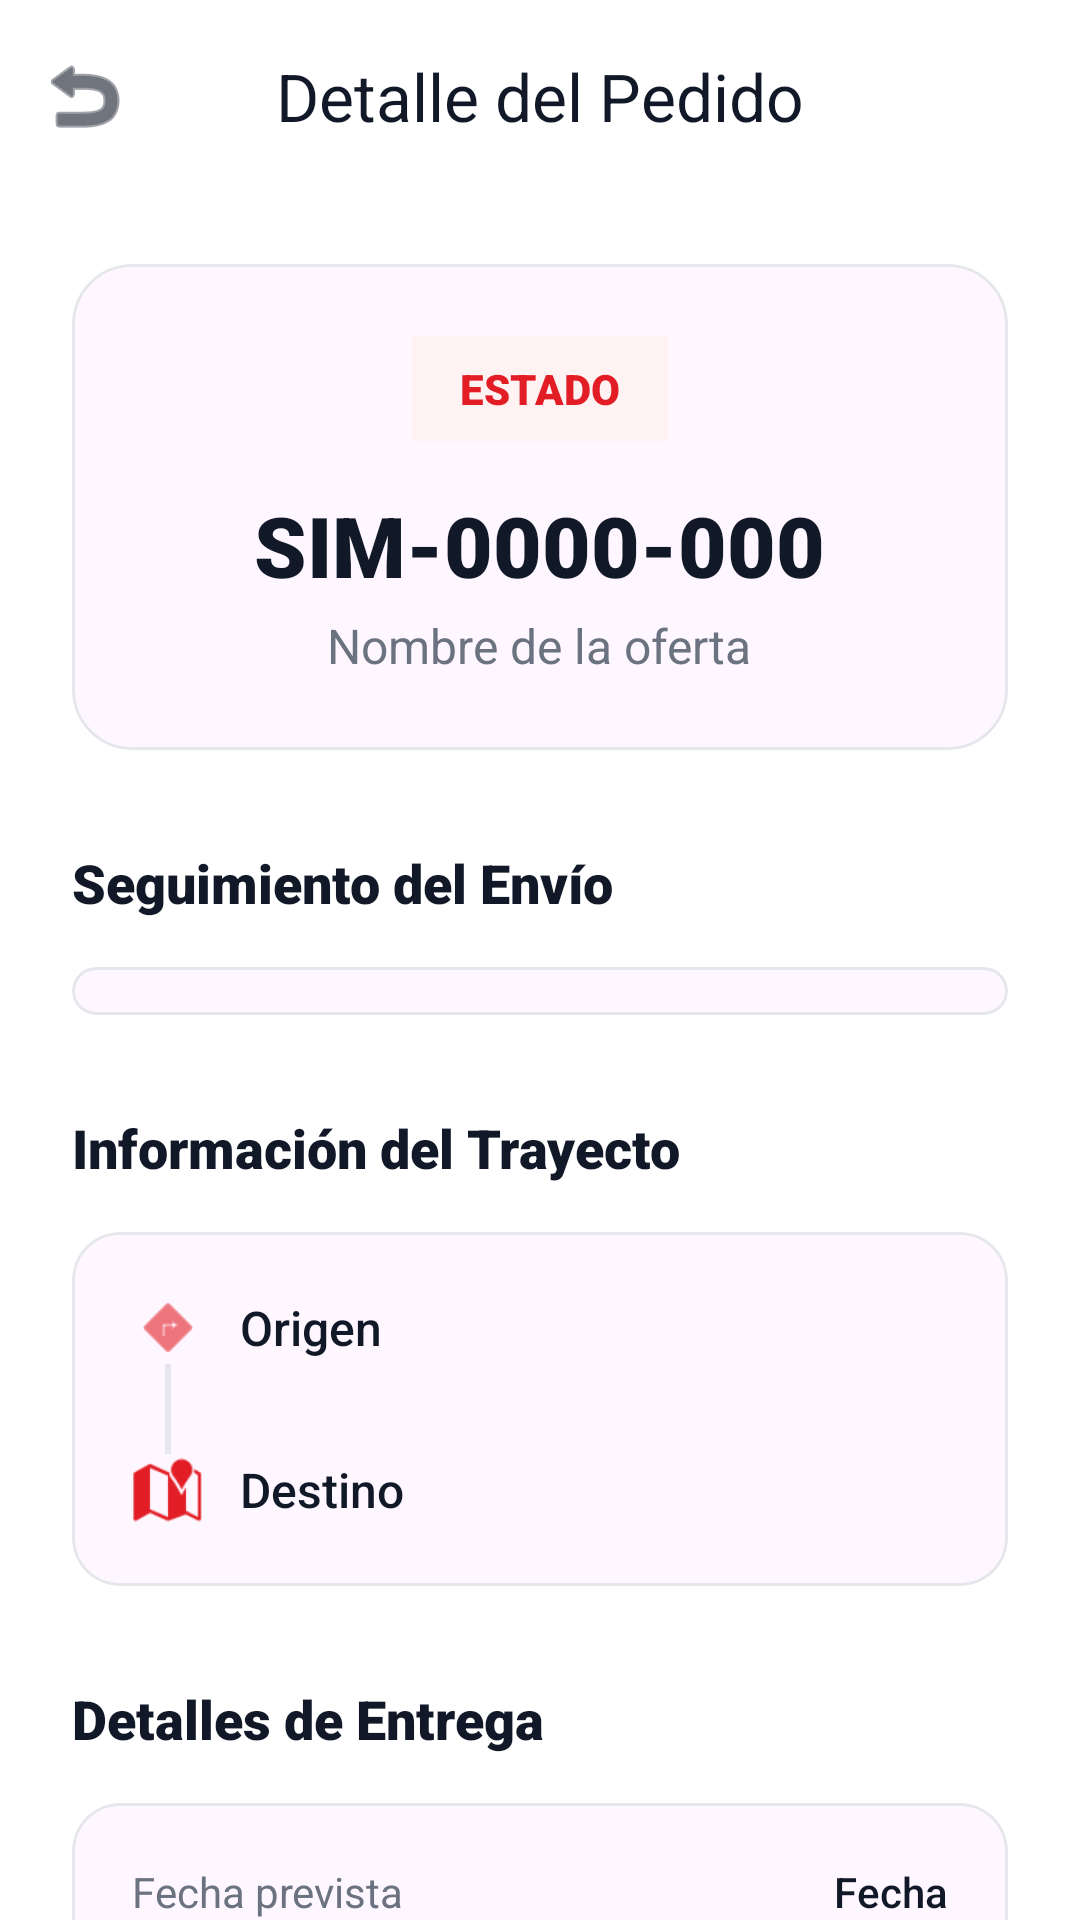

Icons on this 1080 × 1920 Android screen, each with its box as (x1, y1, x2, y2):
directions: (143, 1303, 193, 1352)
map: (133, 1458, 202, 1522)
